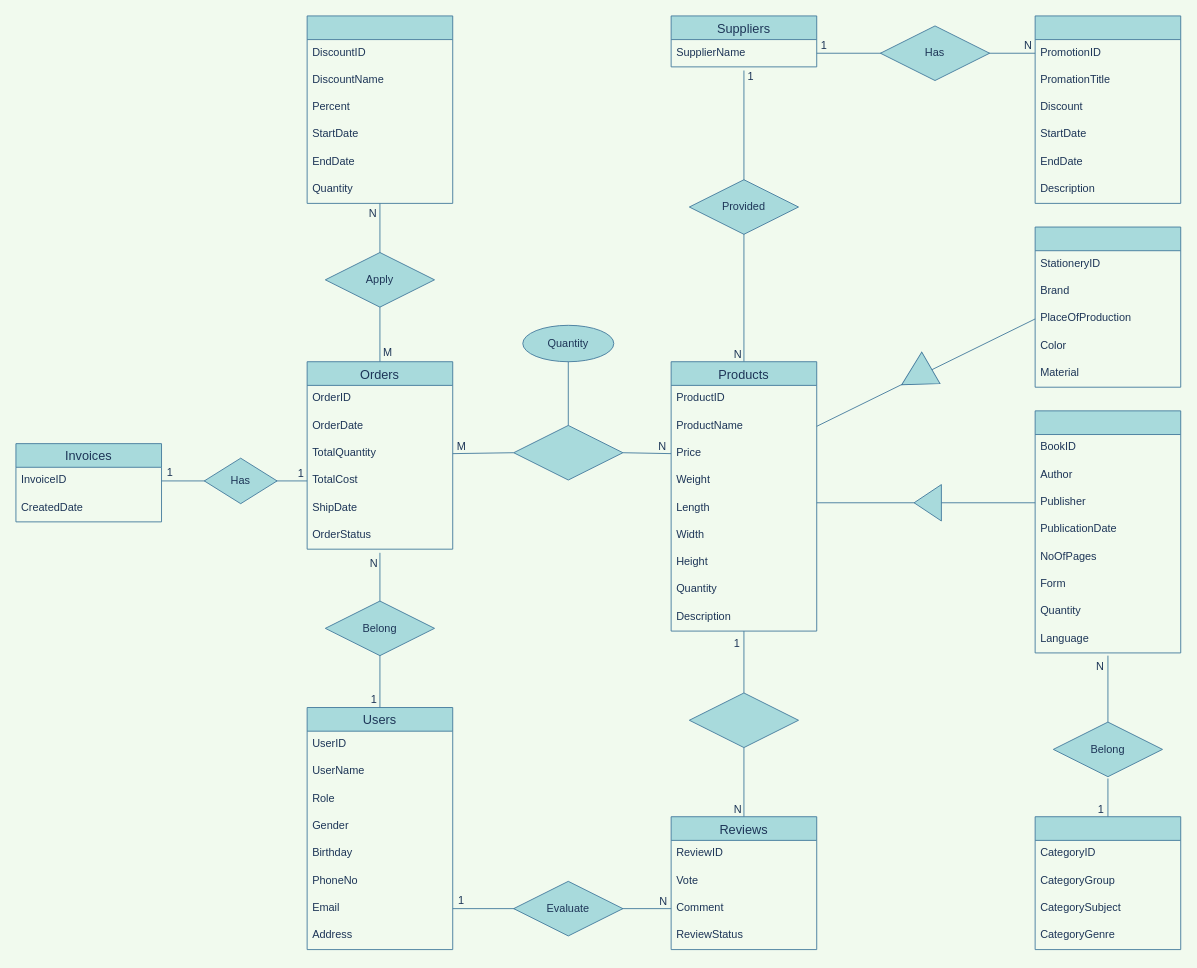
Some shapes in this 1197 by 968 pixel diagram are drawn without their labels. The box of each missing label's shape, as (x1, y1, x2, y2) in pixels:
Books: (1034, 410, 1181, 653)
Categories: (1034, 816, 1181, 950)
Discounts: (306, 15, 453, 203)
Evaluated: (688, 692, 799, 748)
Order: (513, 425, 623, 480)
Promotions: (1034, 15, 1181, 203)
Stationeries: (1034, 226, 1181, 387)
